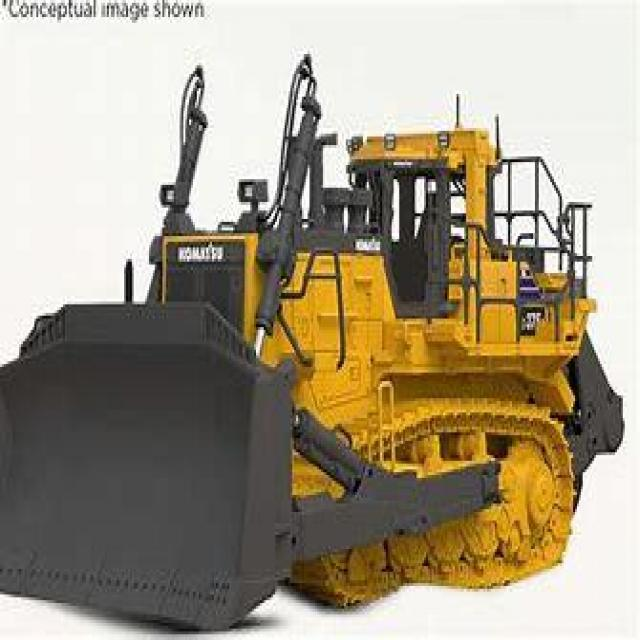Bulldozer: (2, 45, 628, 626)
